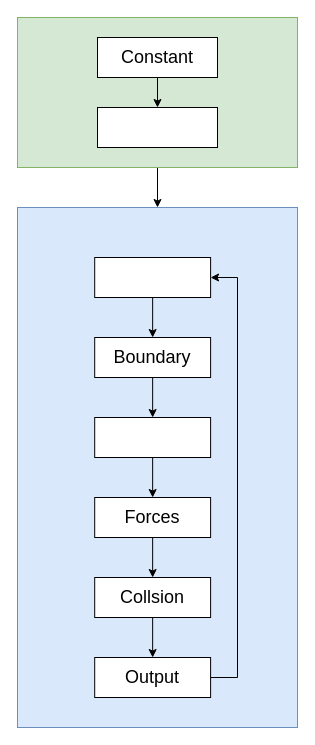
Image size: 315x745. Some labels were removed from this diagram. The centre of each missing label's shape, as x and y in pixels:
"Initialization" goes at pixel 157 127.
"Macrop" goes at pixel 152 437.
"Streaming" goes at pixel 152 277.
